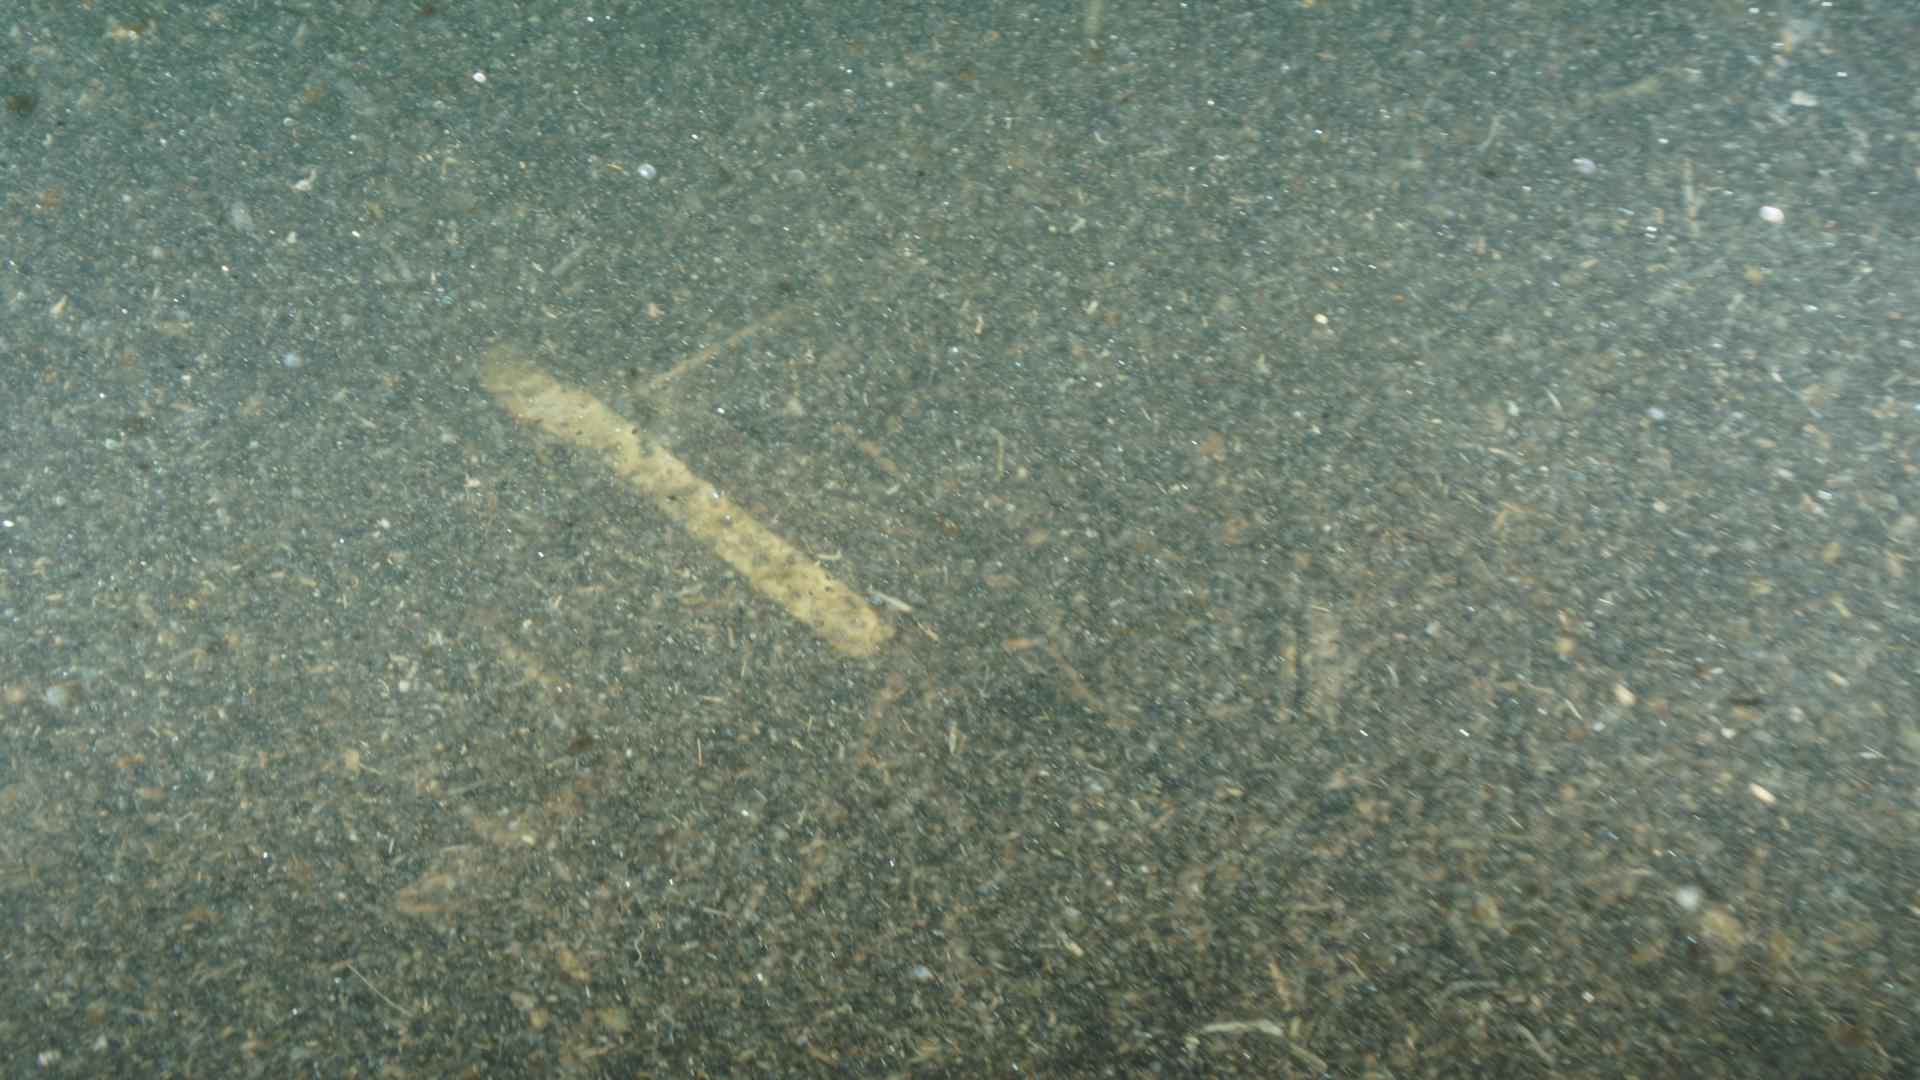wood: (469, 343, 899, 661)
